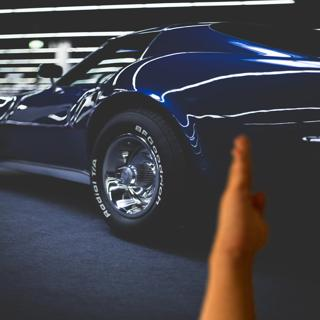RIGHT: (206, 130, 275, 268)
